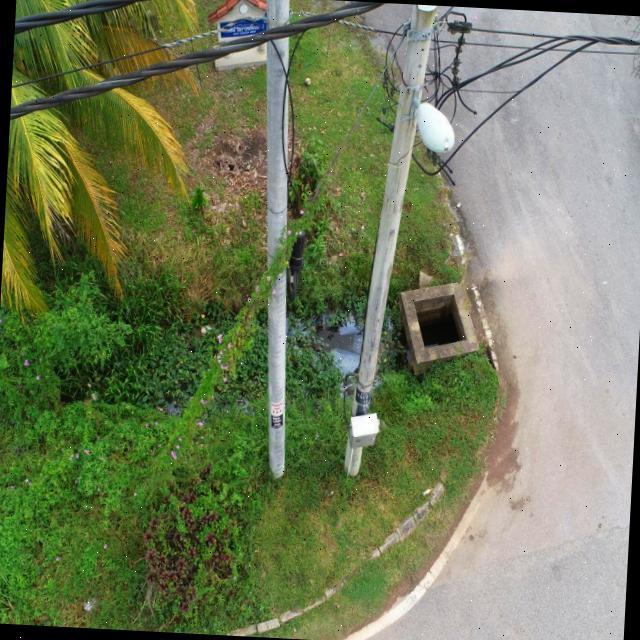critical vegetation: (115, 134, 346, 524)
